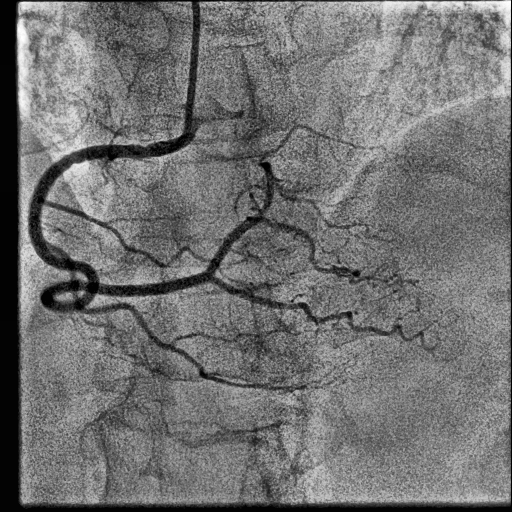pborca: (206, 163, 274, 276)
pda: (210, 276, 425, 342)
rca: (27, 137, 214, 313)
